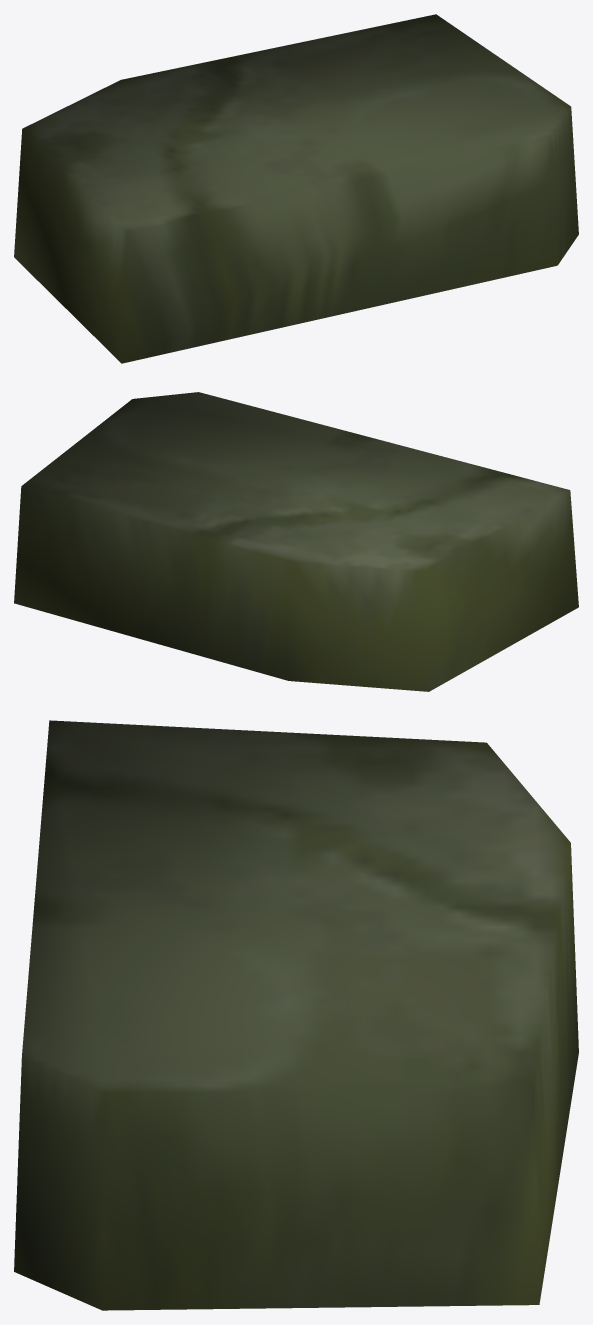
Rendered from yw_shanlin_tile_005.FBX.
3 renders of one model, top to bottom at view 1: azimuth 30°, elevation 25°; view 2: azimuth 150°, elevation 25°; view 3: azimuth 270°, elevation 25°, orthographic. The views are drawn at different scales.
Parts seen in each view (by area): view 1: yw_shanlin_tile_005; view 2: yw_shanlin_tile_005; view 3: yw_shanlin_tile_005.
Boxes of the visible parts, bbox=[...] form: yw_shanlin_tile_005: bbox=[14, 14, 578, 363]; yw_shanlin_tile_005: bbox=[14, 392, 578, 691]; yw_shanlin_tile_005: bbox=[14, 720, 578, 1310].
Size of the model in its own units: 279 by 174 by 71.91.
